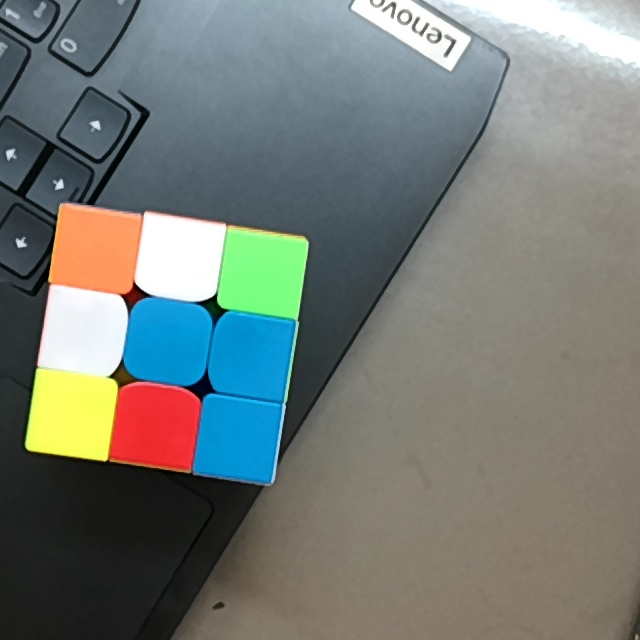tile: (62, 215, 129, 281), (39, 382, 106, 448), (230, 241, 296, 307), (135, 309, 200, 374), (208, 404, 272, 470), (147, 224, 212, 288), (222, 322, 284, 387), (123, 396, 188, 458), (53, 297, 114, 361)
